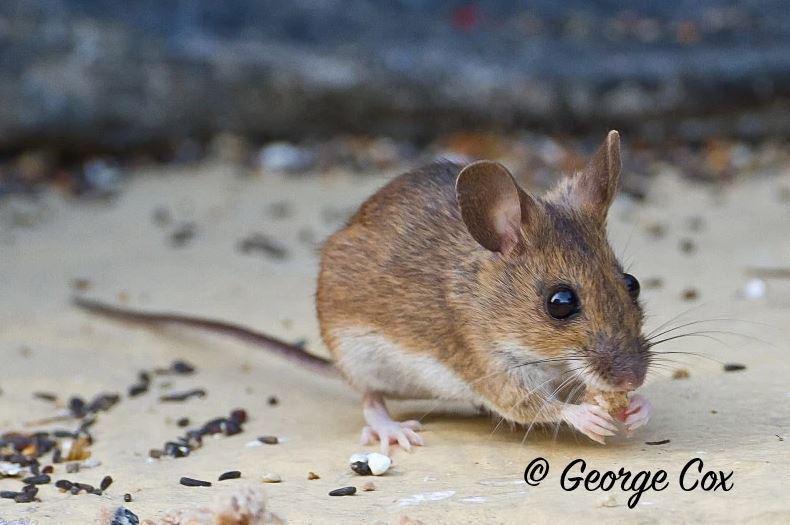rat: (70, 129, 652, 457)
